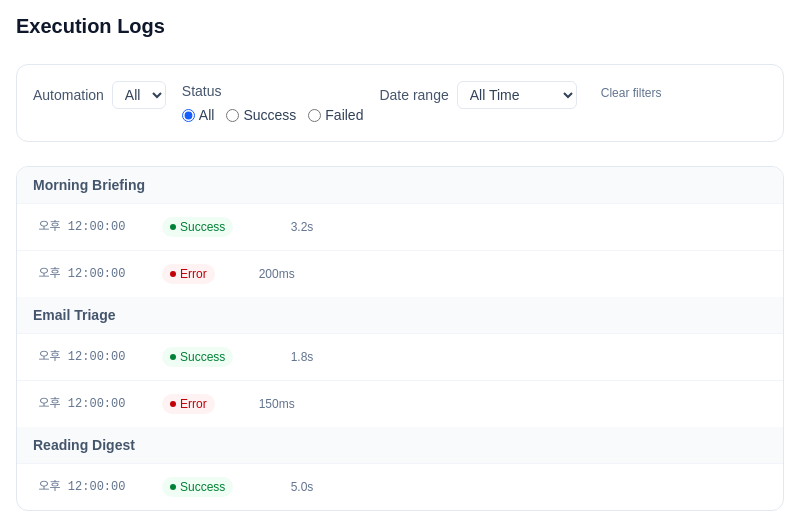
Scenario: TC-6008: Select 'failed' status filter → shows only failed/error logs › TC-6008: clicking 'failed' filter radio shows only error logs — RED: no filter UI
Expected: the text "Morning Briefing" is shown, [17, 167, 783, 204]
What coordinates should you click on to do the following:
click the radio button labelled "Failed"
I would click on:
 (315, 115)
Its box is [308, 108, 321, 122].
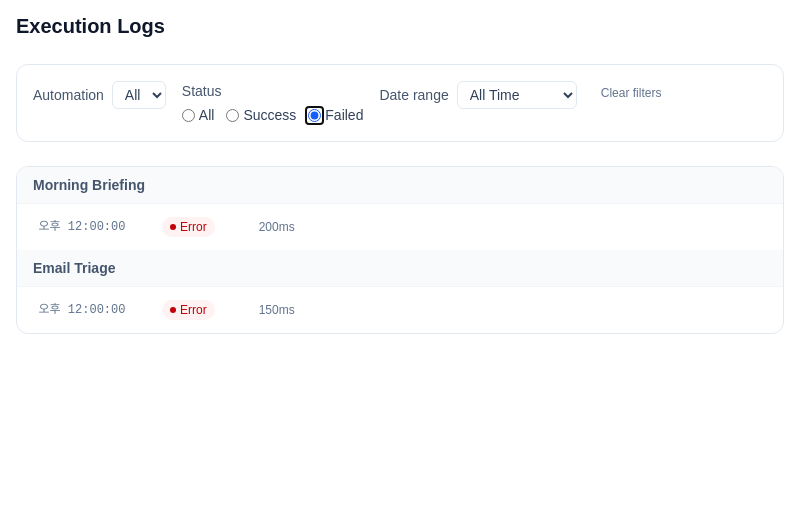
Expected: the text "Reading Digest" is not shown
